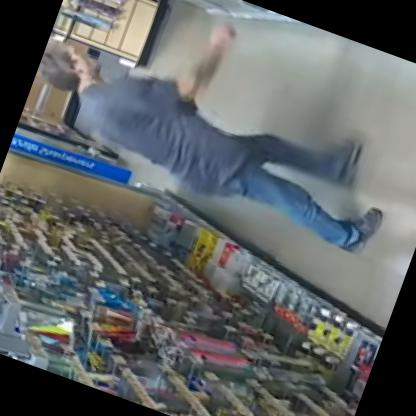Human Body: (17, 0, 415, 254)
